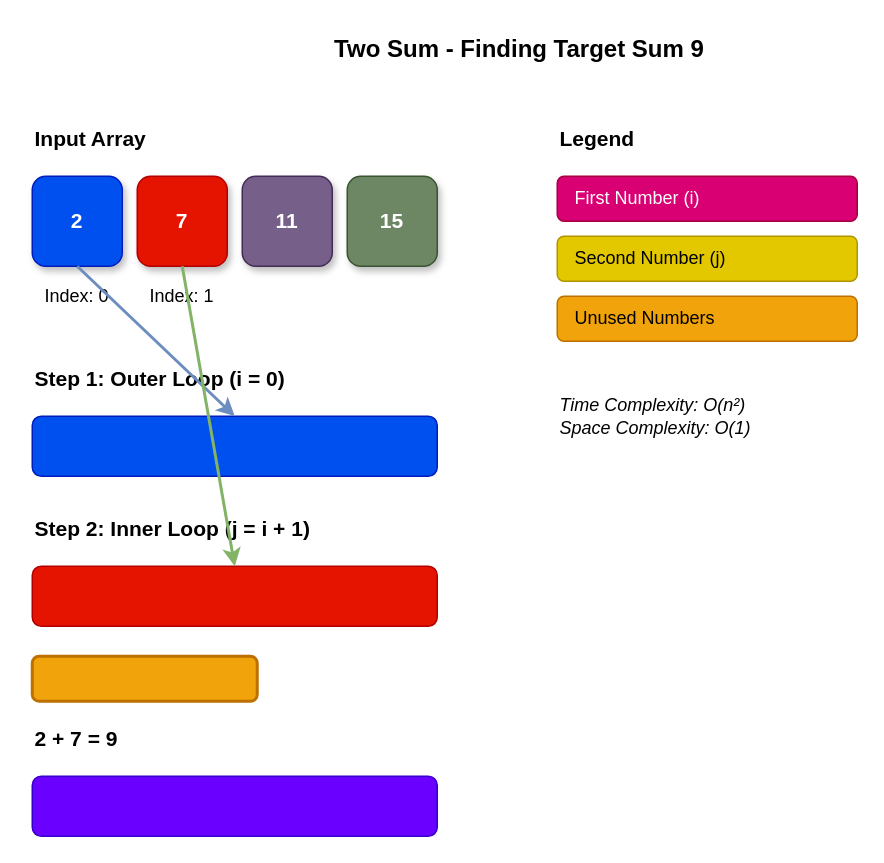
Some shapes in this 884 by 863 pixel diagram are drawn without their labels. The centre of each missing label's shape, as x and y in pixels:
"Check next number: 7" belongs at point (234, 595).
"Found Target Sum!" belongs at point (144, 678).
"Return [0, 1]" belongs at point (234, 805).
"Select first number: 2" belongs at point (234, 445).
